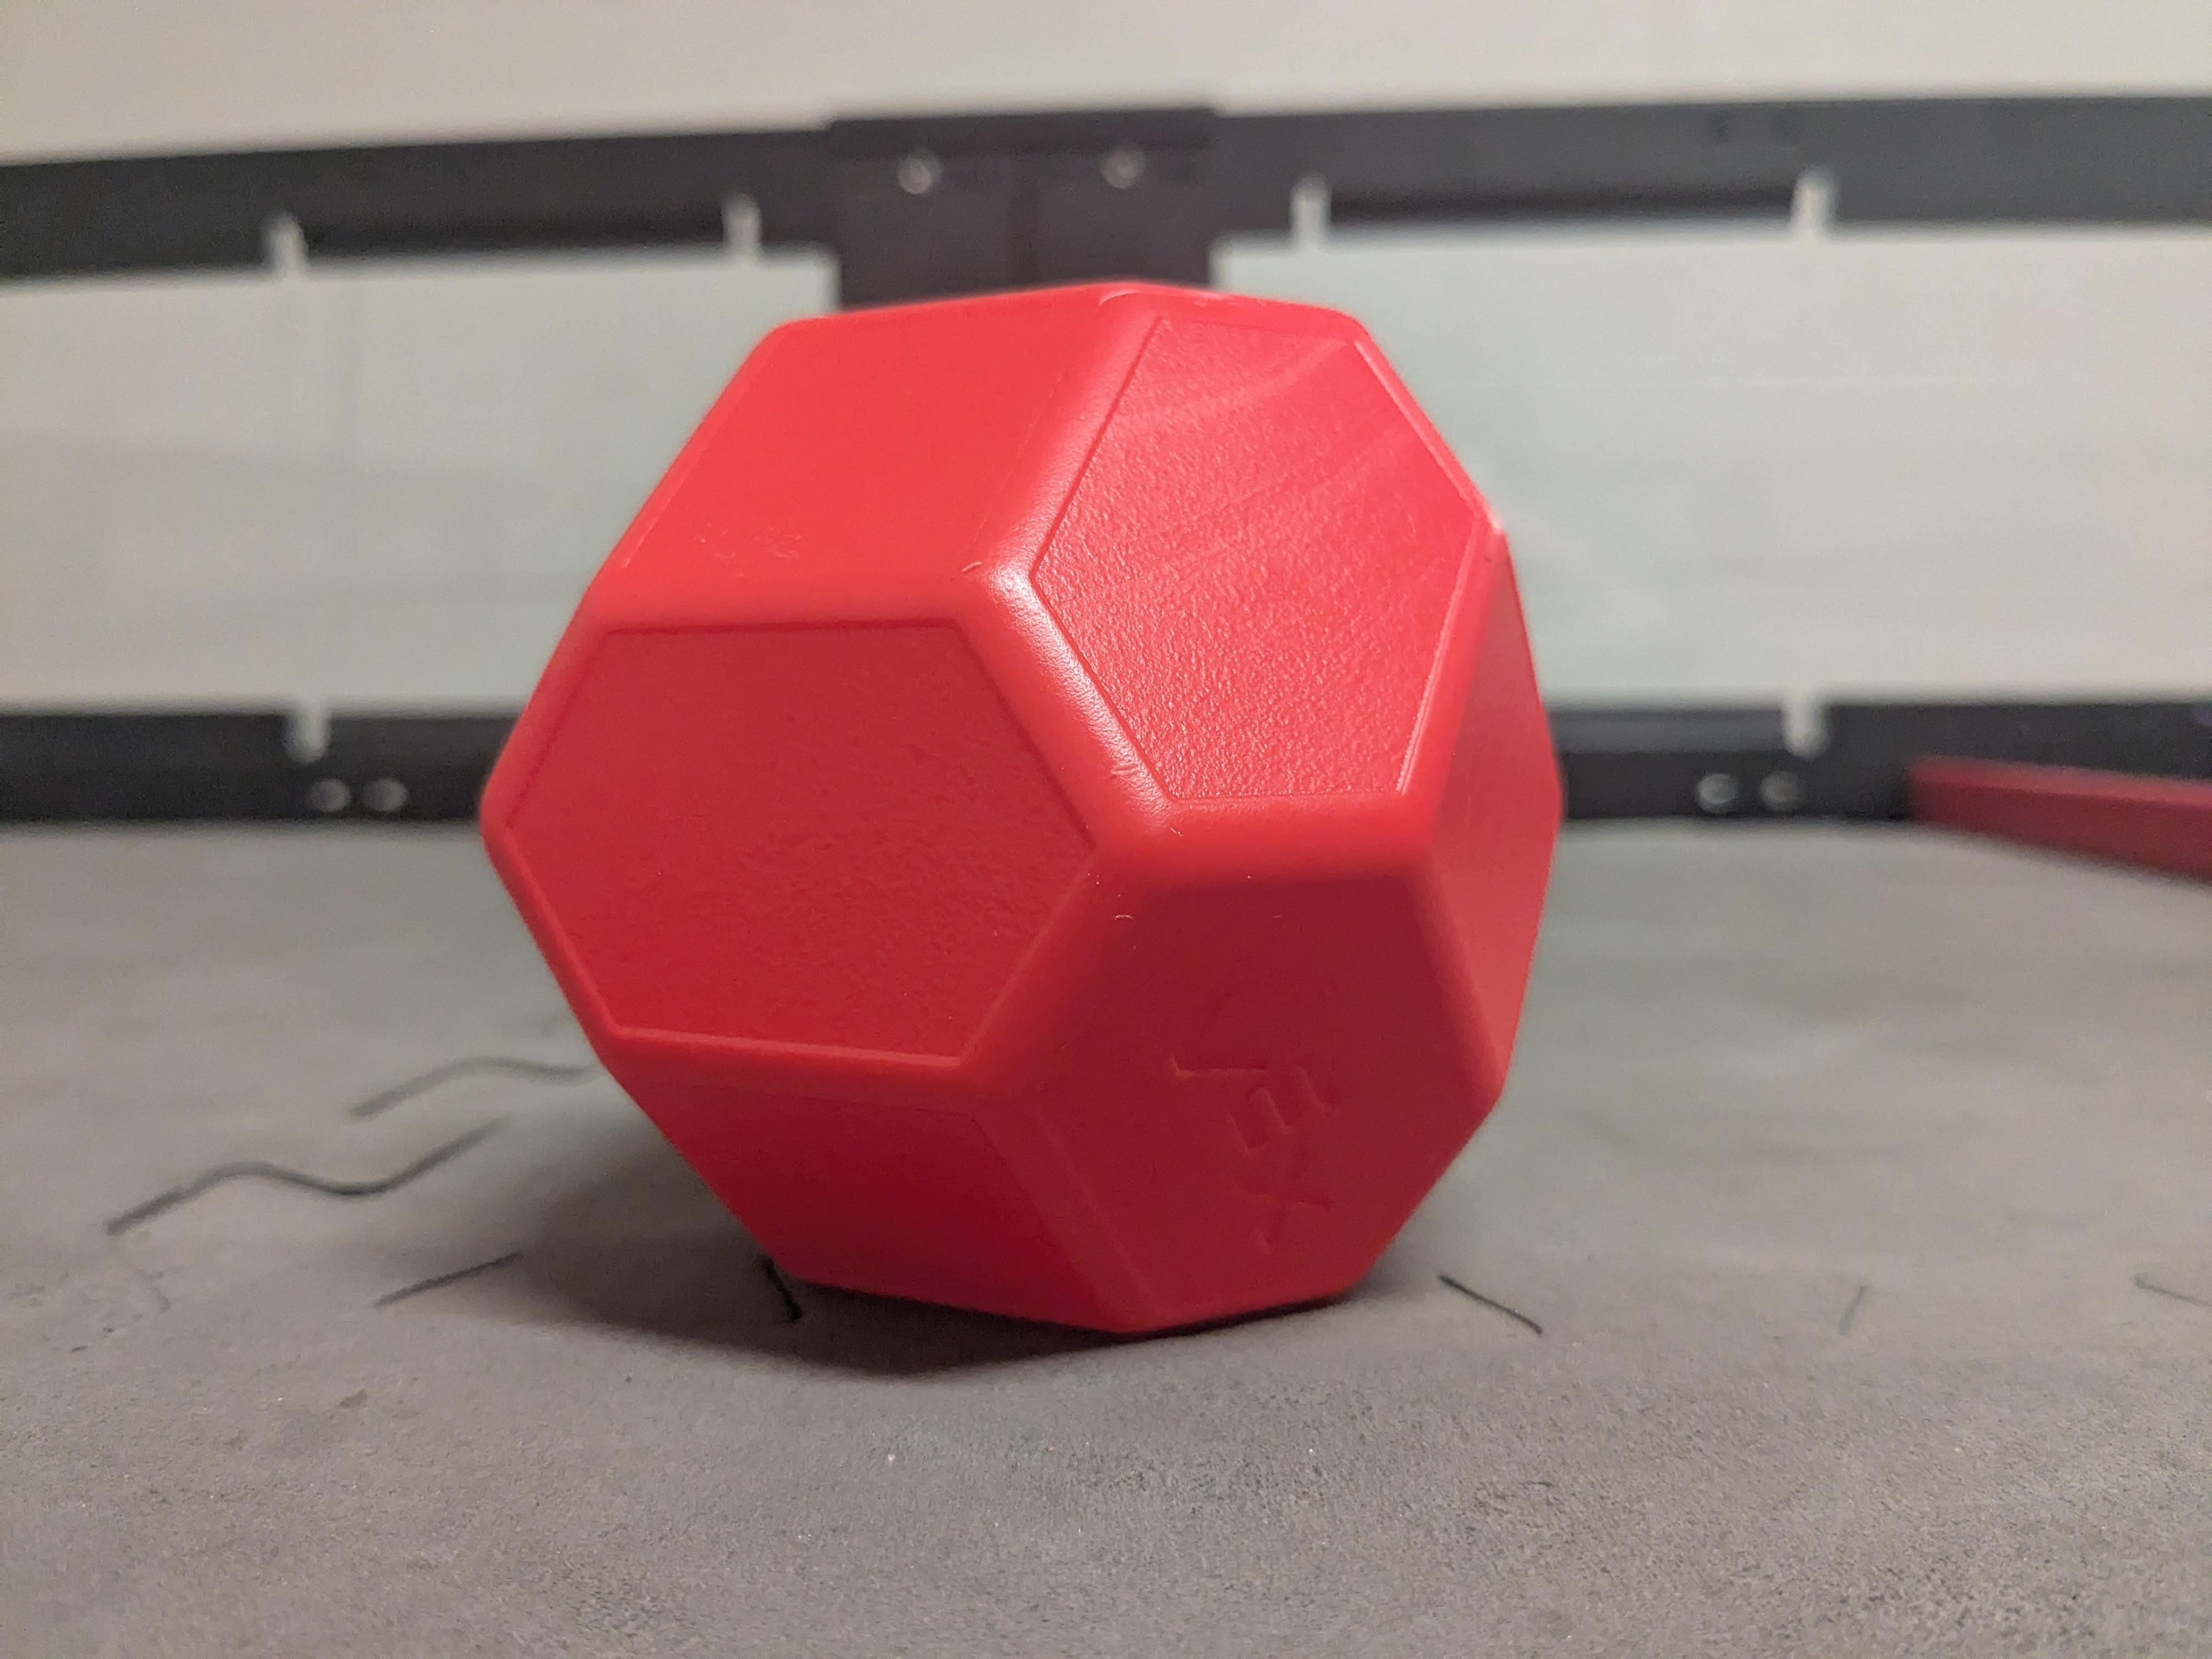Vex-Pieces-RED: (469, 279, 1571, 1310)
